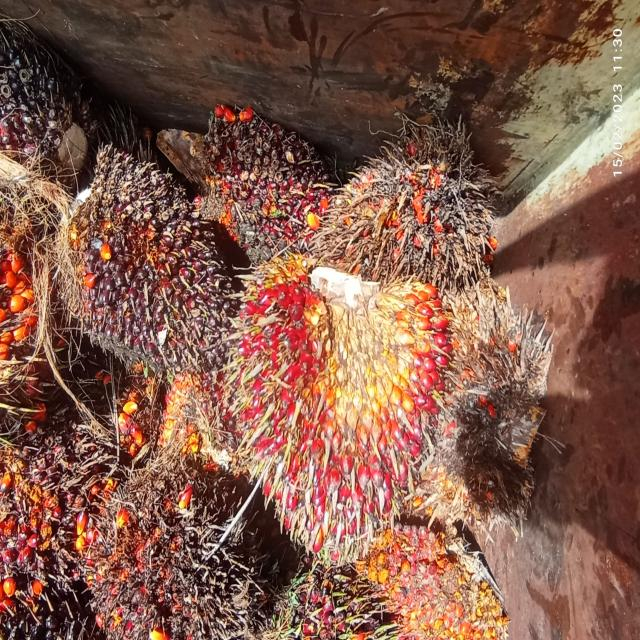fraksi 3: (218, 182, 470, 614), (357, 500, 502, 640)
fraksi 4: (29, 141, 270, 391), (302, 108, 509, 293), (73, 449, 251, 640)
